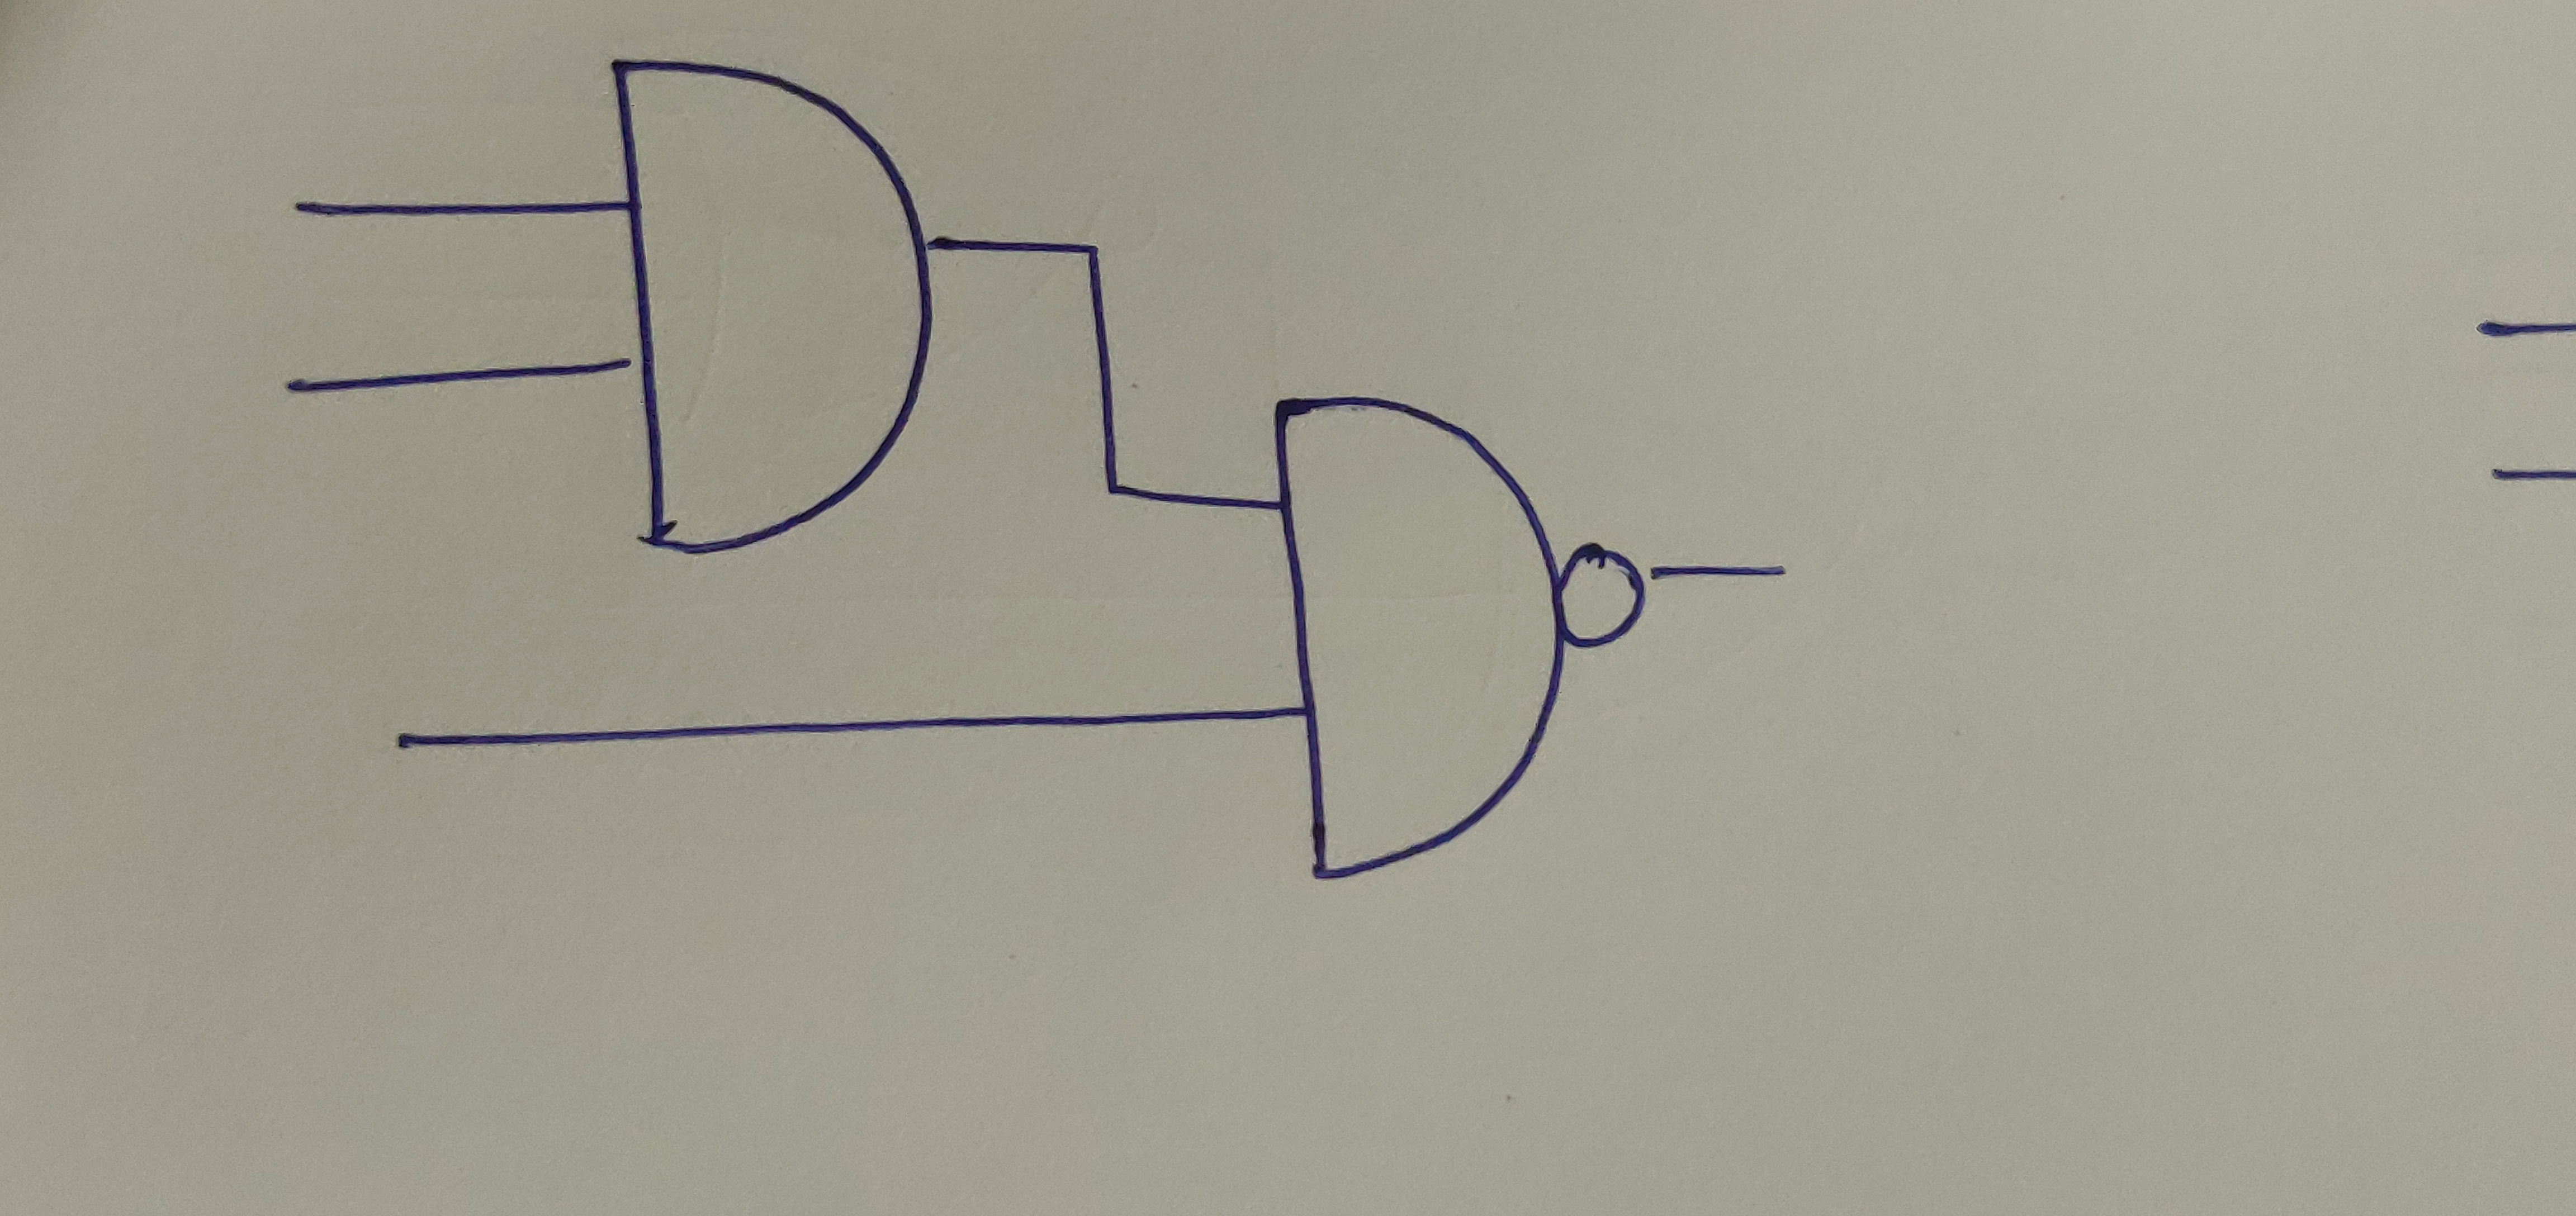and: (606, 48, 941, 557), (1265, 393, 1562, 879)
not: (1551, 544, 1653, 652)
